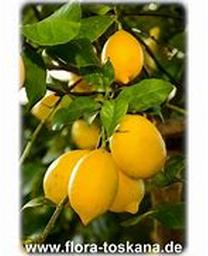lemon: (109, 115, 166, 180), (70, 150, 119, 224), (43, 150, 92, 207), (102, 31, 143, 84)
